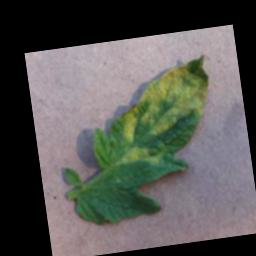Leaf_Mold: (98, 55, 217, 166)
